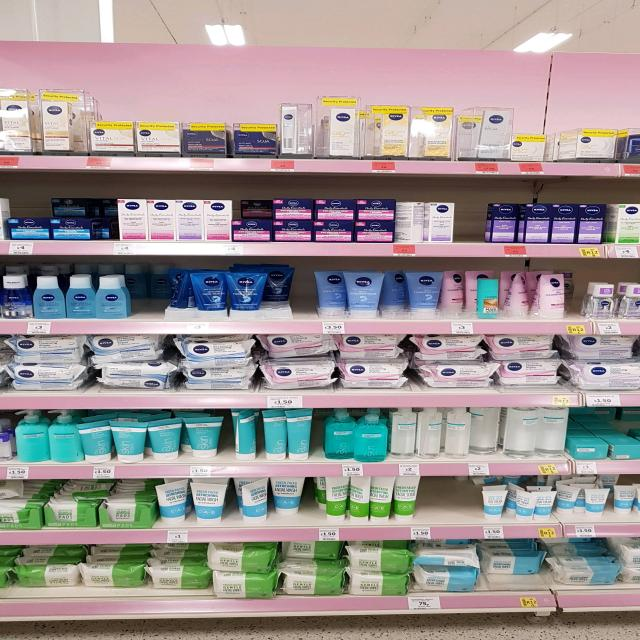100- O.O.S: (422, 478, 463, 538), (455, 191, 484, 257), (296, 264, 314, 333)
